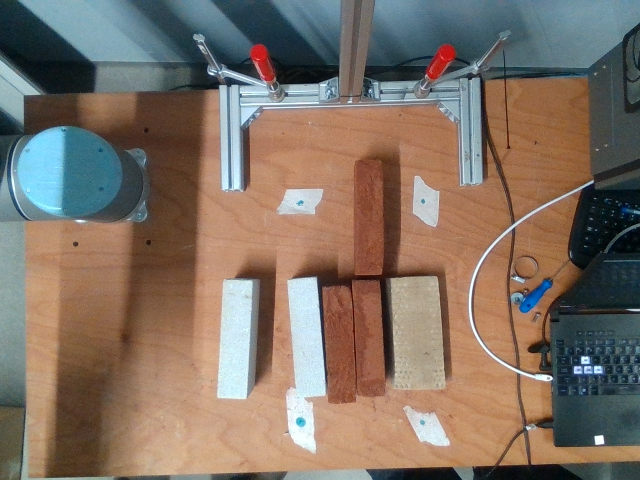brick: (391, 276, 442, 389)
brick-side: (286, 278, 326, 397), (218, 280, 253, 398), (323, 286, 356, 401), (353, 281, 384, 396), (358, 162, 381, 274)
